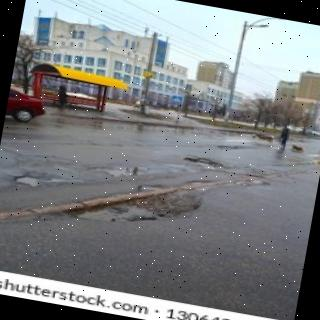pothole: (49, 193, 204, 225), (181, 157, 223, 170), (219, 145, 252, 150)
